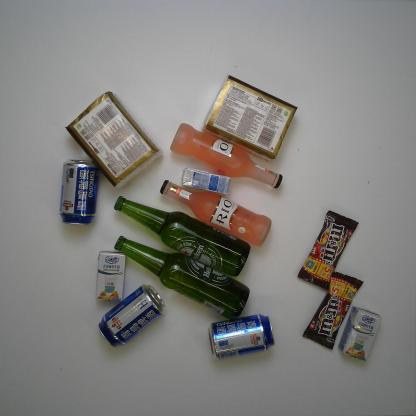Alcohol: (113, 234, 251, 322), (112, 194, 252, 278), (158, 179, 274, 248), (168, 122, 284, 190), (98, 283, 166, 350), (206, 312, 276, 362), (58, 157, 102, 228)
Chocolate: (296, 208, 360, 294), (302, 270, 364, 352)
Milk: (336, 304, 383, 362), (94, 249, 129, 304), (180, 167, 232, 196)
Tissue: (63, 89, 164, 191), (200, 72, 299, 162)
